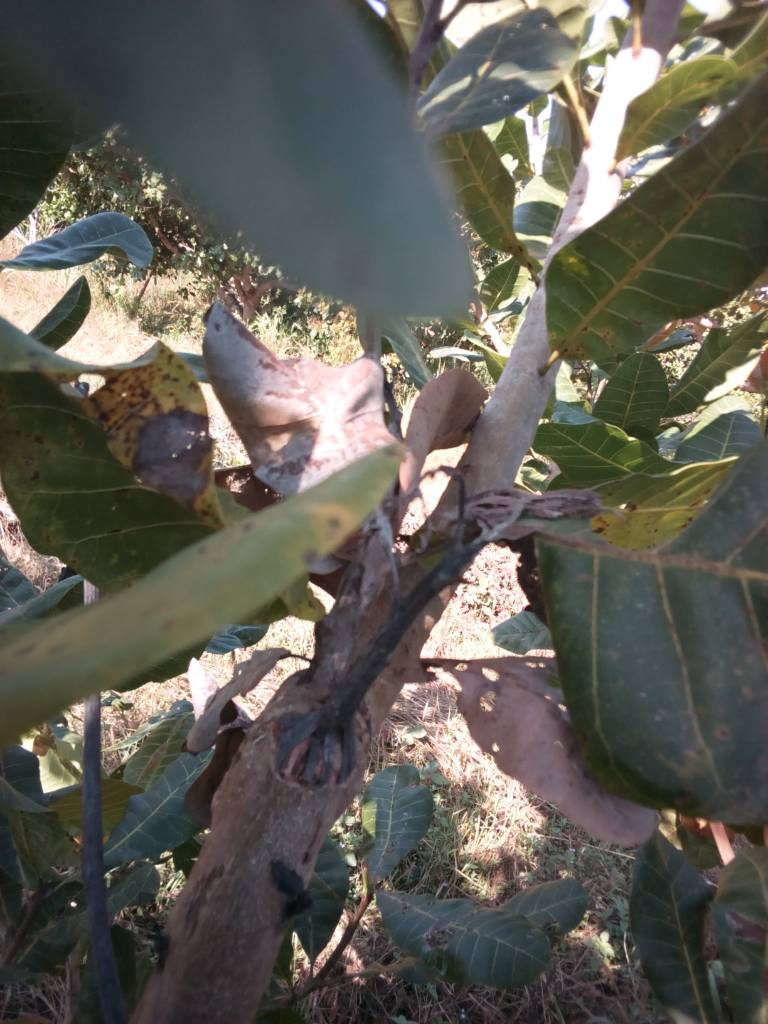Pestalotiose: (5, 460, 391, 730), (541, 121, 768, 347)
